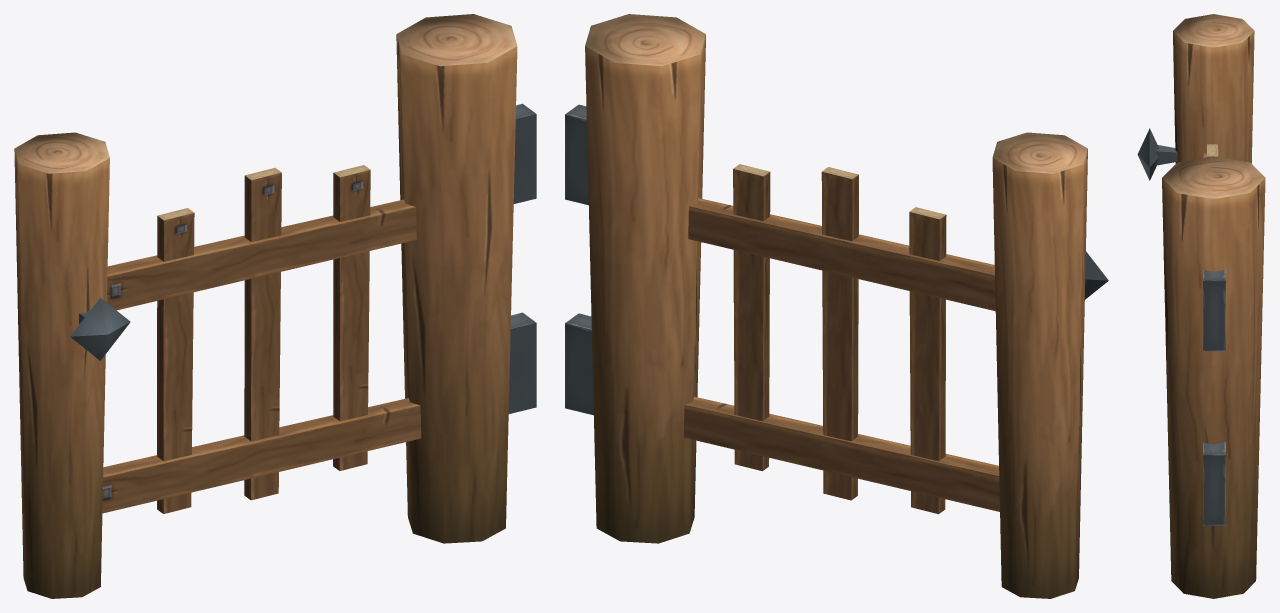
Rendered from gates_04_right.fbx.
The picture shows the model from 3 angles, left to right: view 1: azimuth 30°, elevation 25°; view 2: azimuth 150°, elevation 25°; view 3: azimuth 270°, elevation 25°; orthographic projection. The views are drawn at different scales.
Parts seen in each view (by area): view 1: gates_04_right:Mesh; view 2: gates_04_right:Mesh; view 3: gates_04_right:Mesh.
Part boxes in pixels (<box>): gates_04_right:Mesh: <box>14,14,536,598</box>; gates_04_right:Mesh: <box>565,14,1108,598</box>; gates_04_right:Mesh: <box>1137,14,1265,598</box>.
Bounding box in the file's own units: 3.71 × 3.35 × 0.9628.
